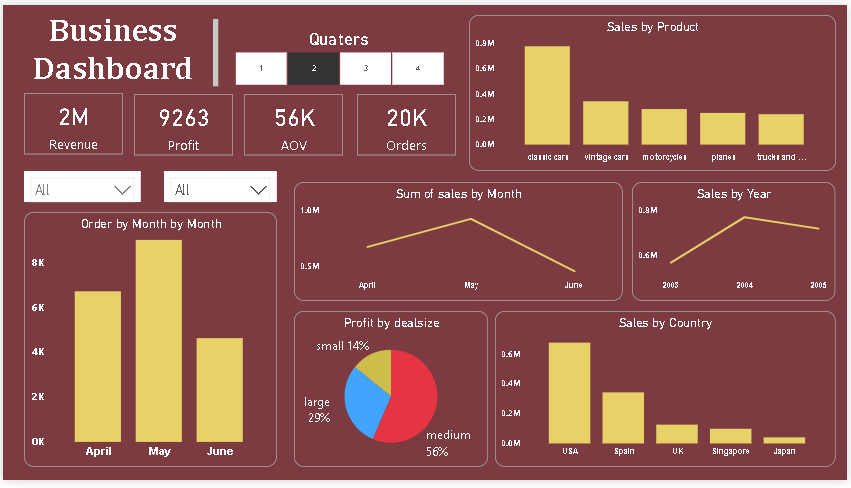

Layout of this report page (visuals, bound fields, positions):
{"tool":"powerbi","page":{"name":"Page 1","canvas":[1280,720],"ordinal":0},"visuals":[{"type":"lineChart","title":"Sales by Year","fields":{"Category":["Sheet1.sell_date.Variation.Date Hierarchy.Year","Sheet1.sell_date.Variation.Date Hierarchy.Quarter","Sheet1.sell_date.Variation.Date Hierarchy.Month","Sheet1.sell_date.Variation.Date Hierarchy.Day"],"Y":["Sum(Sheet1.sales)"]},"box":[953,268.2,307.6,180.3],"z":0},{"type":"columnChart","title":"Sales by Country","fields":{"Category":["Sheet1.country"],"Y":["Sum(Sheet1.sales)"]},"box":[745.7,464.3,515.7,235.7],"z":1000},{"type":"columnChart","title":"Sales by Product","fields":{"Category":["Sheet1.product"],"Y":["Sum(Sheet1.sales)"]},"box":[706.1,15.2,556.1,236.4],"z":2000},{"type":"slicer","title":"Quaters","fields":{"Values":["Sheet1.qtr_id"]},"box":[331.8,34.8,354.5,87.9],"z":3000},{"type":"card","fields":{"Values":["Sum(Sheet1.sales)"]},"box":[31.4,132.9,150,92.9],"z":4000},{"type":"card","fields":{"Values":["Sum(Sheet1.profit)"]},"box":[198.6,134.3,150,92.9],"z":5000},{"type":"card","fields":{"Values":["Sum(Sheet1.sell_price)"]},"box":[365.7,134.3,150,92.9],"z":6000},{"type":"card","fields":{"Values":["Sum(Sheet1.quantity_ordered)"]},"box":[535.7,134.3,150,92.9],"z":7000},{"type":"pieChart","title":"Profit by dealsize","fields":{"Category":["Sheet1.dealsize"],"Y":["Sum(Sheet1.profit)"]},"box":[440.9,463.6,293.9,236.4],"z":9000},{"type":"lineChart","fields":{"Y":["Sum(Sheet1.sales)"],"Category":["Sheet1.sell_date.Variation.Date Hierarchy.Month"]},"box":[440.9,268.2,498.5,180.3],"z":9001},{"type":"textbox","box":[15.2,15.2,310.6,107.6],"z":9002},{"type":"slicer","fields":{"Values":["Sheet1.sell_date.Variation.Date Hierarchy.Month"]},"box":[243.9,251.5,171.2,47],"z":9004},{"type":"slicer","fields":{"Values":["Sheet1.country"]},"box":[31.8,251.5,177.3,47],"z":9005},{"type":"lineClusteredColumnComboChart","fields":{"Category":["Sheet1.sell_date.Variation.Date Hierarchy.Month"],"Y":["Sum(Sheet1.quantity_ordered)"]},"box":[31.8,313.6,383.3,386.4],"z":9006}]}

Visuals, with their boxes in screenshot pixels (x1, y1, x2, y2), scaled from the page's 1280x720 canvas onto the 851x488 screenshot:
"Sales by Year" lineChart: 634,182,838,304
"Sales by Country" columnChart: 496,315,839,474
"Sales by Product" columnChart: 469,10,839,171
"Quaters" slicer: 221,24,456,83
card - Sum(Sheet1.sales): 21,90,121,153
card - Sum(Sheet1.profit): 132,91,232,154
card - Sum(Sheet1.sell_price): 243,91,343,154
card - Sum(Sheet1.quantity_ordered): 356,91,456,154
"Profit by dealsize" pieChart: 293,314,489,474
lineChart - Sum(Sheet1.sales) x Sheet1.sell_date.Variation.Date Hierarchy.Month: 293,182,625,304
textbox: 10,10,217,83
slicer - Sheet1.sell_date.Variation.Date Hierarchy.Month: 162,170,276,202
slicer - Sheet1.country: 21,170,139,202
lineClusteredColumnComboChart - Sheet1.sell_date.Variation.Date Hierarchy.Month x Sum(Sheet1.quantity_ordered): 21,213,276,474
